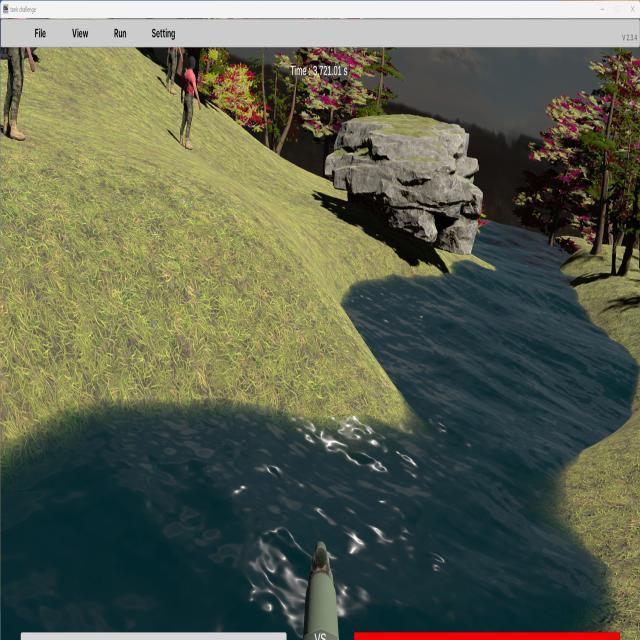Human: (180, 55, 201, 151)
